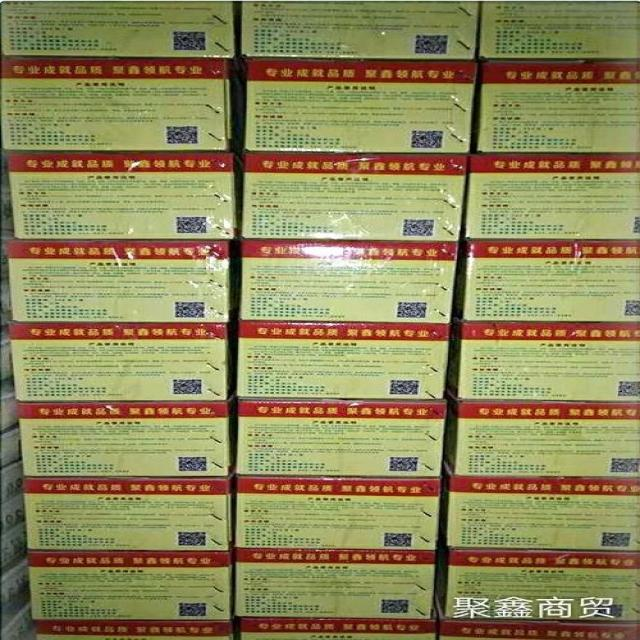box: (1, 56, 246, 159), (244, 58, 477, 153), (7, 150, 244, 240), (238, 152, 468, 240), (9, 316, 239, 402), (436, 454, 639, 551), (7, 239, 239, 323), (17, 390, 236, 476), (238, 239, 458, 323), (441, 387, 639, 477), (236, 316, 450, 399), (23, 469, 237, 551), (236, 396, 446, 476), (434, 539, 638, 621), (446, 315, 638, 402), (27, 541, 235, 620), (451, 237, 639, 323), (470, 59, 639, 153), (234, 473, 440, 550), (459, 151, 639, 239), (235, 547, 435, 619), (242, 2, 479, 60), (2, 1, 236, 58), (434, 592, 639, 639), (475, 1, 639, 59), (234, 601, 437, 639), (34, 613, 238, 639)
